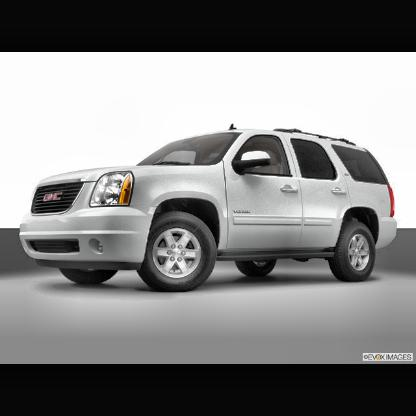GMC Yukon Hybrid SUV 2012: (18, 126, 398, 294)
